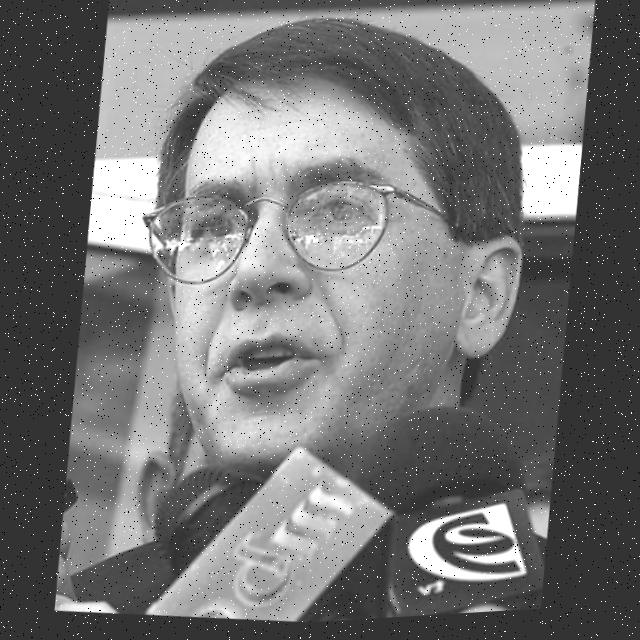face: (118, 8, 535, 488)
